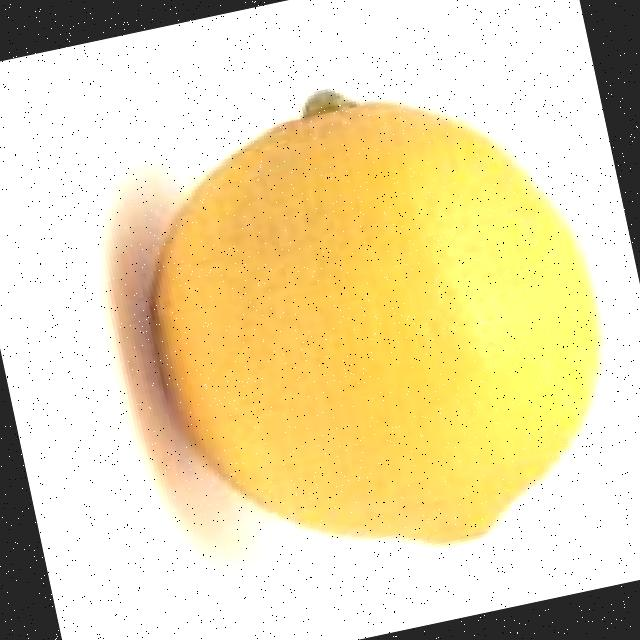Lemon: (107, 40, 640, 599)
